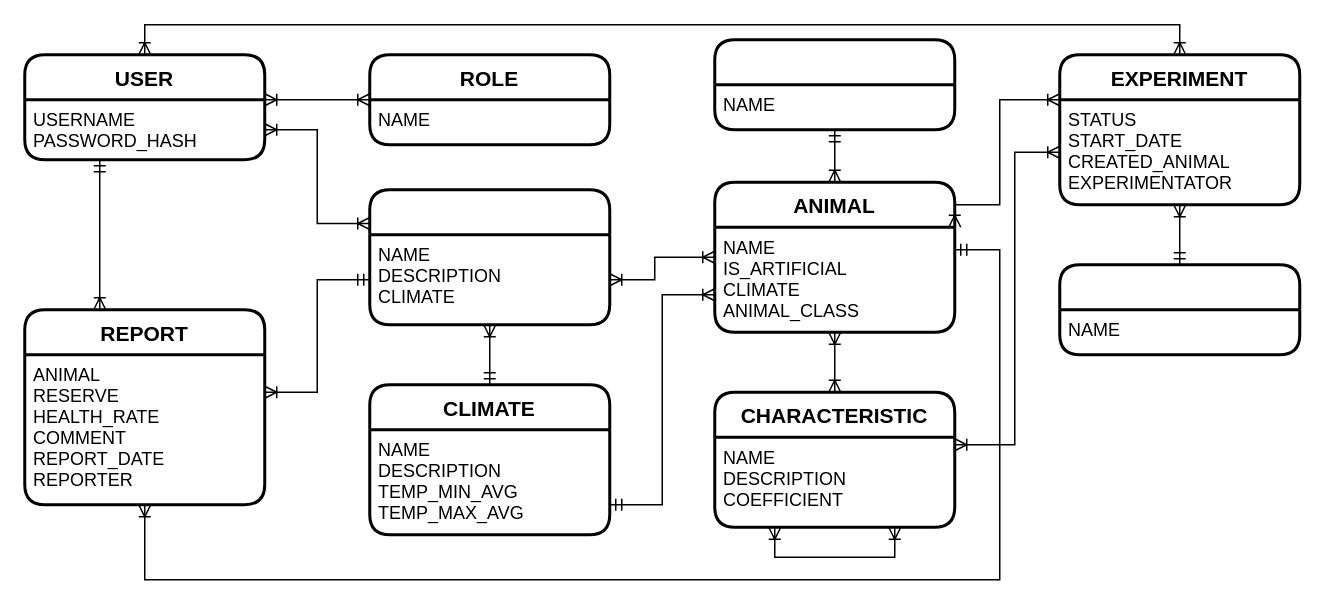
The diagram is 1325 pixels wide and 605 high, and some of its shapes have lost their labels. Here are the shapes that lost their labels. From the top down, the box of each, then its label:
(712, 38, 956, 130): ANIMAL_CLASS
(368, 188, 610, 326): RESERVE
(1058, 262, 1300, 356): STATUS
